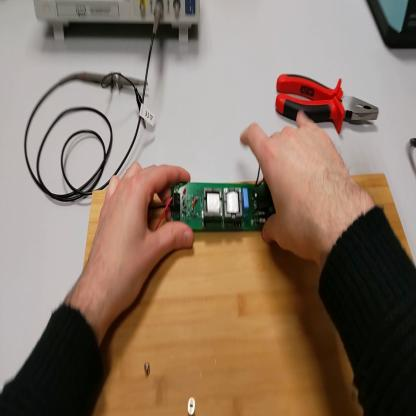hand: (241, 108, 355, 266), (90, 160, 197, 311)
high voltage board: (150, 164, 277, 230)
oscilloscope: (35, 1, 200, 43)
oscilloscope probe tip: (74, 68, 149, 92)
pliers: (275, 73, 382, 125)
welder station: (366, 2, 416, 52)
working area: (83, 167, 416, 415)
